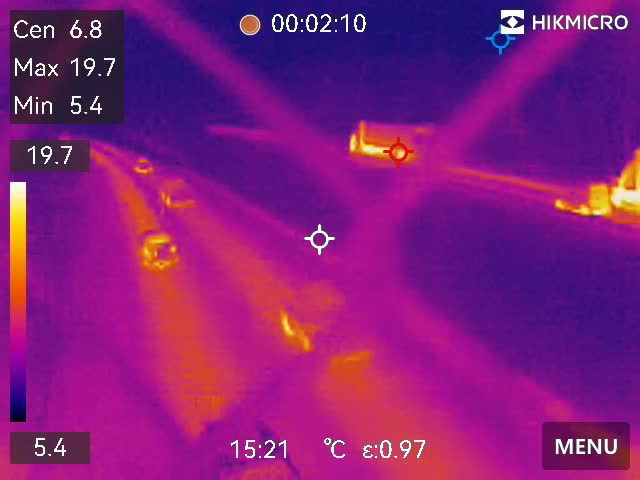heavyTruck: (344, 115, 429, 158)
